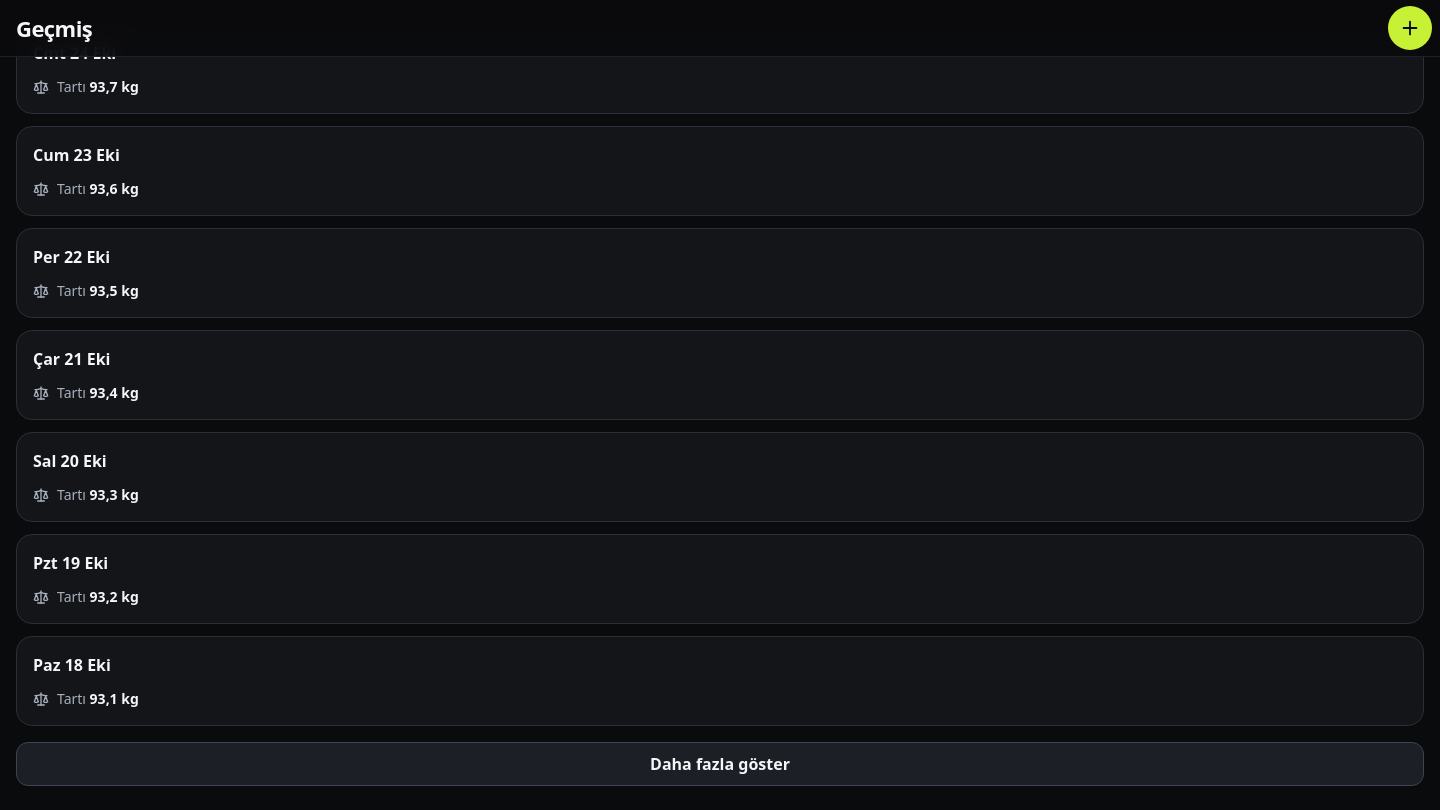
Scenario: HistoryScreen › renders 30 days at a time and expands the window for an older ?date=
The width and height of the screenshot is (1440, 810).
Later steps or results of the test are not shown.
(page scrolled)
Click the button "Daha fazla göster".
click(720, 764)  # box x1=16 y1=742 x2=1424 y2=786
(page scrolled)
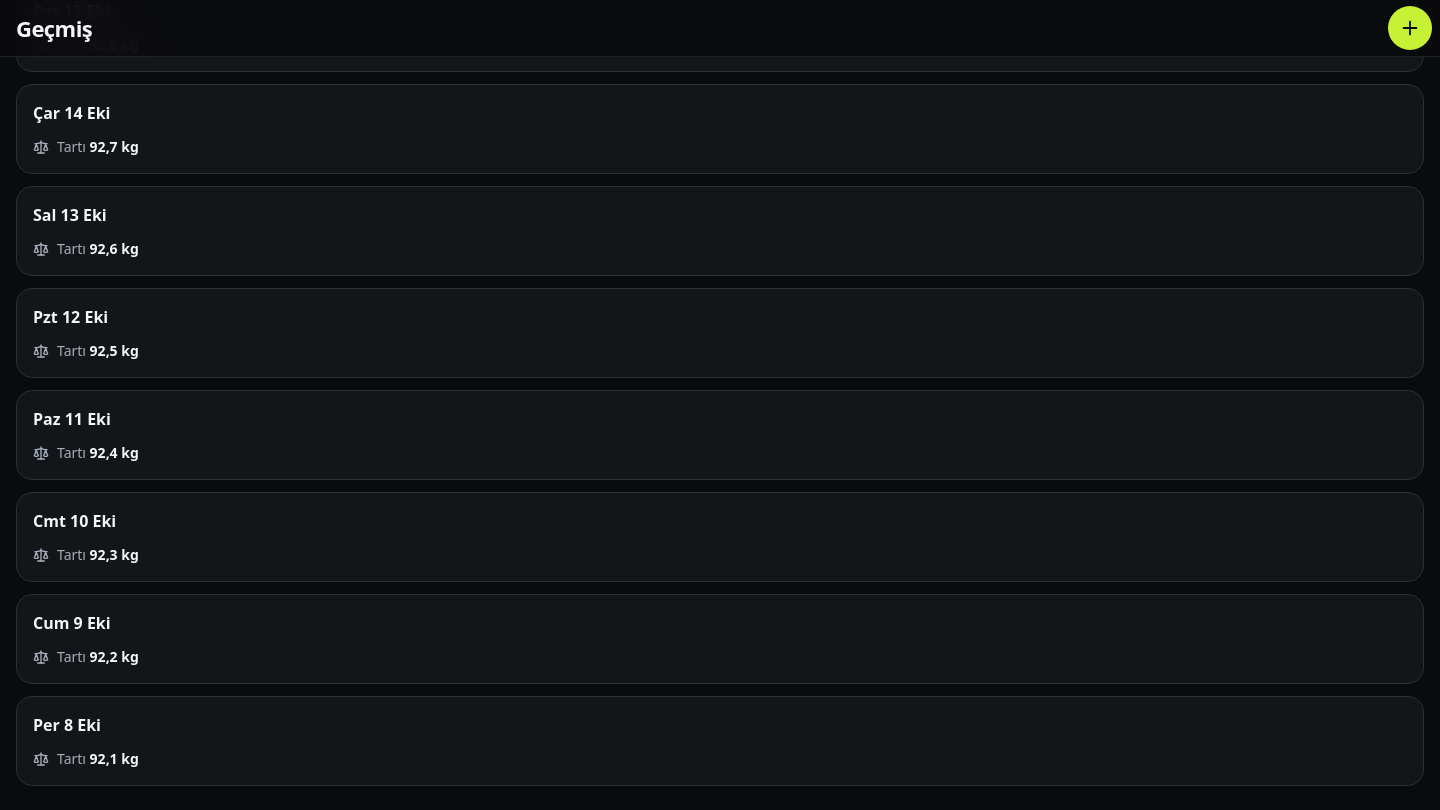
Expected: the button "Daha fazla göster" is gone
